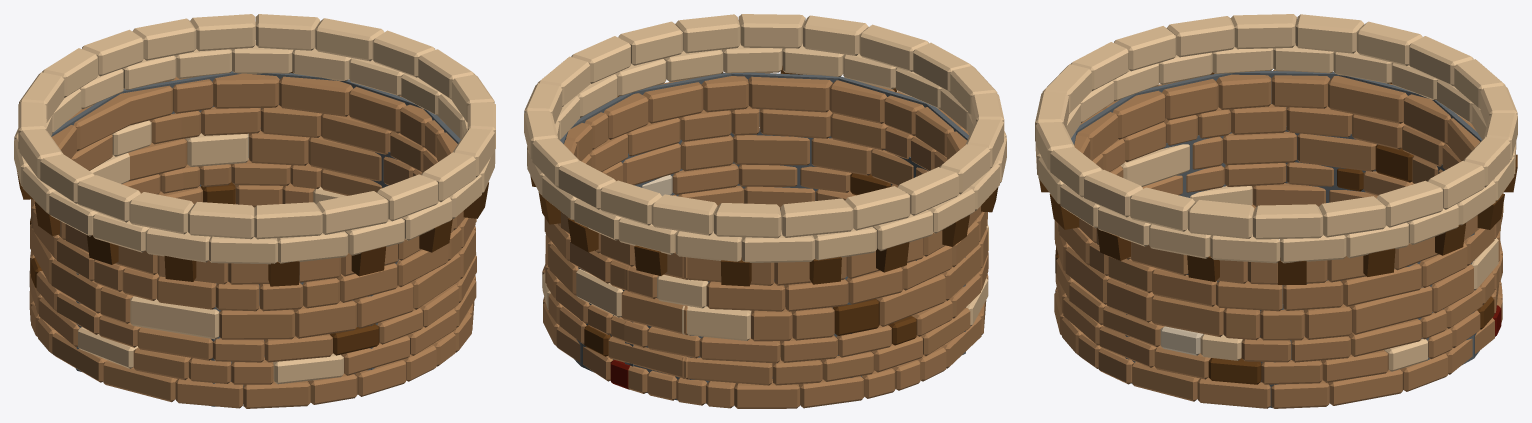
The model's file is top-section-no-crenellation.glb.
The picture shows the model from 3 angles, left to right: view 1: azimuth 30°, elevation 25°; view 2: azimuth 150°, elevation 25°; view 3: azimuth 270°, elevation 25°; orthographic projection.
Visible parts, largest first — view 1: main-wall.004, top-section-2, top-section-1, grout-wall.002, strut-1, strut-11, strut-8, strut-12, strut-15, strut-4; view 2: main-wall.004, top-section-2, top-section-1, grout-wall.002, strut-2, strut-6, strut-16, strut-10, strut-9, strut-4; view 3: main-wall.004, top-section-2, top-section-1, grout-wall.002, strut-14, strut-5, strut-13, strut-3, strut-7, strut-9, strut-12.
Part boxes in pixels (<box>): main-wall.004: <box>29,73,476,408</box>; top-section-2: <box>18,14,495,239</box>; top-section-1: <box>14,40,495,264</box>; grout-wall.002: <box>51,71,460,406</box>; strut-1: <box>351,246,385,276</box>; strut-11: <box>268,261,299,286</box>; strut-8: <box>164,256,196,281</box>; strut-12: <box>419,218,452,252</box>; strut-15: <box>87,235,118,264</box>; strut-4: <box>34,201,59,235</box>; main-wall.004: <box>542,73,988,408</box>; top-section-2: <box>524,14,1004,238</box>; top-section-1: <box>527,43,1006,262</box>; grout-wall.002: <box>560,72,969,403</box>; strut-2: <box>634,245,667,275</box>; strut-6: <box>809,257,841,284</box>; strut-16: <box>720,257,751,286</box>; strut-10: <box>876,242,909,272</box>; strut-9: <box>567,218,598,252</box>; strut-4: <box>942,215,969,246</box>; main-wall.004: <box>1054,69,1503,408</box>; top-section-2: <box>1035,14,1517,239</box>; top-section-1: <box>1035,43,1516,263</box>; grout-wall.002: <box>1071,71,1481,408</box>; strut-14: <box>1363,248,1395,276</box>; strut-5: <box>1097,228,1130,260</box>; strut-13: <box>1187,255,1219,281</box>; strut-3: <box>1278,258,1306,284</box>; strut-7: <box>1435,223,1465,255</box>; strut-9: <box>1477,193,1504,229</box>; strut-12: <box>1049,194,1079,229</box>.
Bounding box in the file's own units: 3.13 × 1.44 × 3.12.
